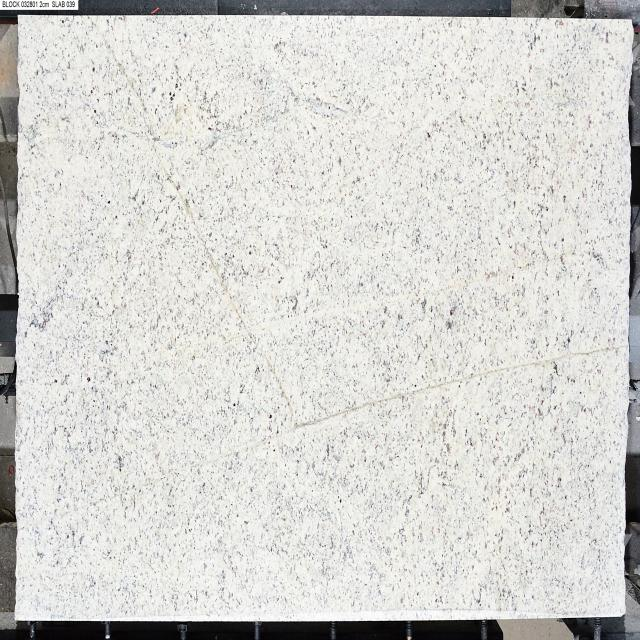chapa: (12, 15, 632, 620)
